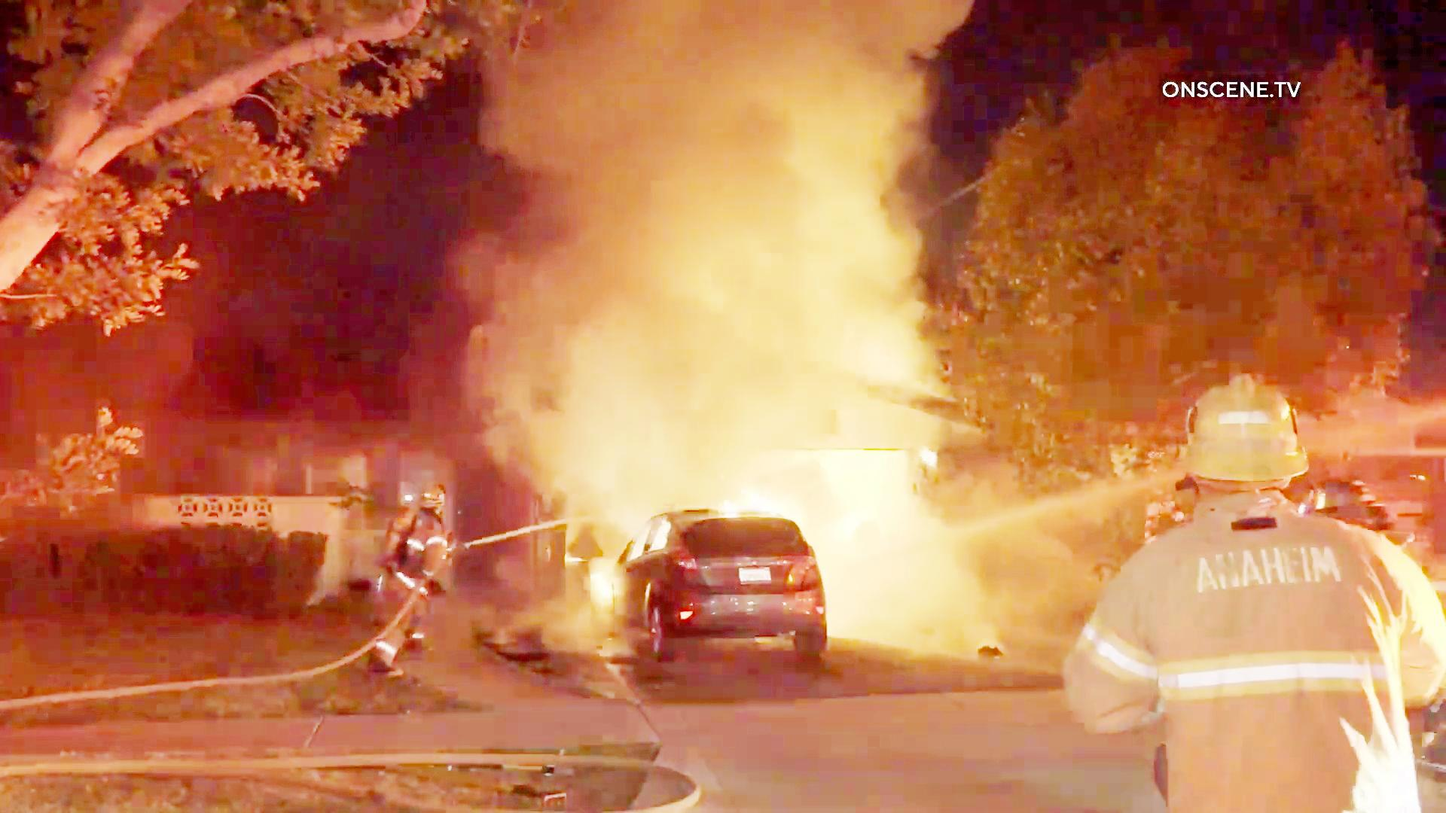fire: (755, 475, 838, 544), (584, 567, 624, 619)
smoke: (418, 140, 909, 440), (599, 8, 959, 150), (885, 567, 1054, 669)
